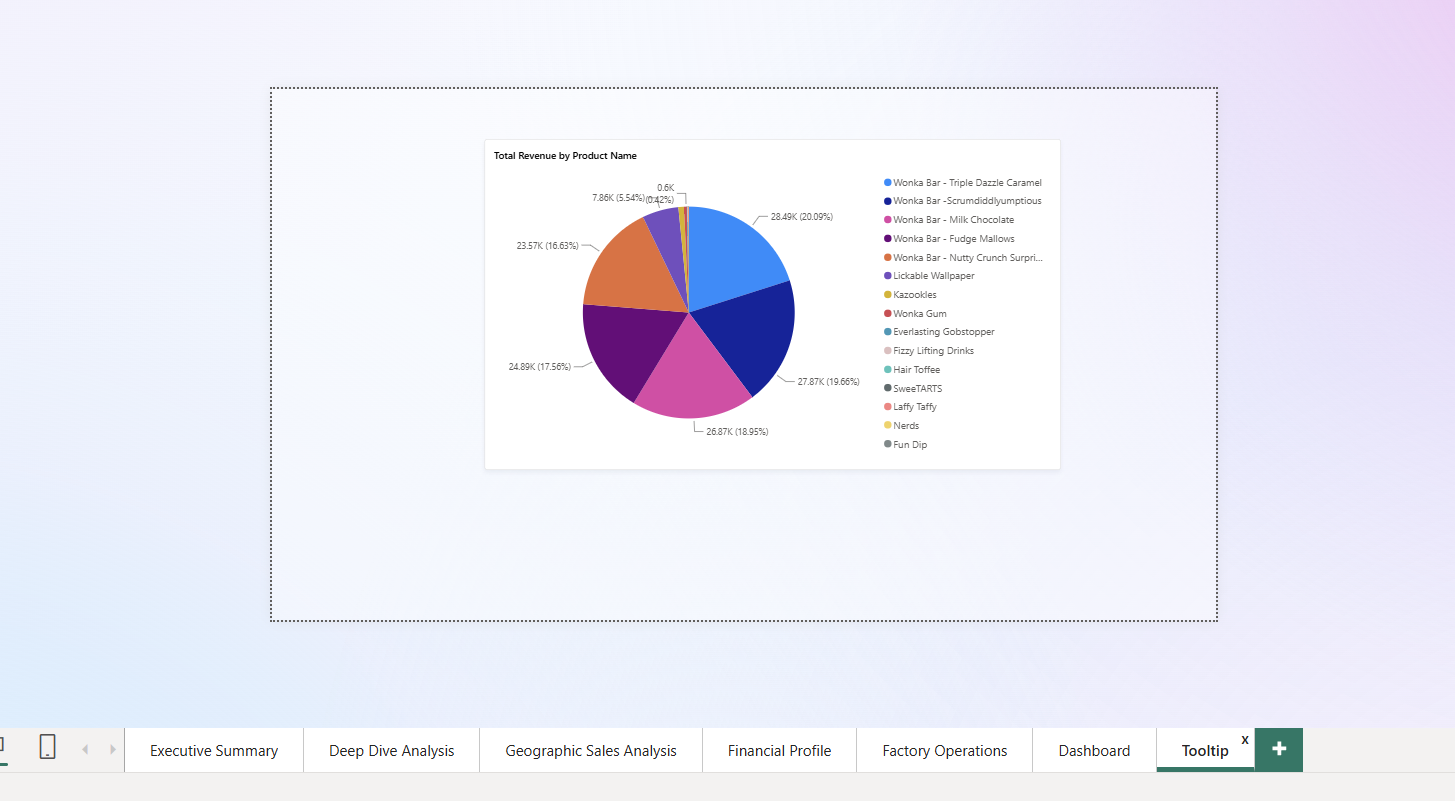

The page's visual inventory and layout, read from the dashboard file:
{"tool":"powerbi","page":{"name":"Tooltip","canvas":[1280,720],"ordinal":6},"visuals":[{"type":"pieChart","fields":{"Category":["Candy_Products.Product Name"],"Y":["Candy_Sales.Total Revenue"]},"box":[287.4,68.5,781.4,448.8],"z":0}]}

Visuals, with their boxes on the page's 1280x720 design canvas (x1, y1, x2, y2). These are canvas units, not pixel positions in the 1455x801 screenshot, which may show the page scaled, cropped or inside an application window:
pieChart - Candy_Products.Product Name x Candy_Sales.Total Revenue: [287, 68, 1069, 517]
